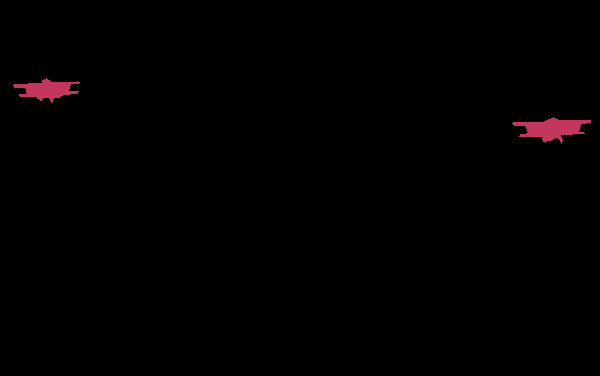Airplane: (512, 117, 590, 143), (13, 78, 79, 102)
